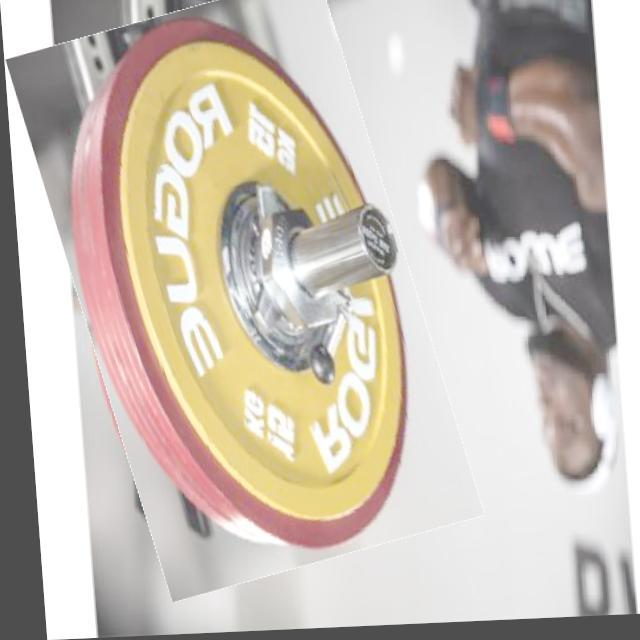barbell: (32, 1, 451, 593)
